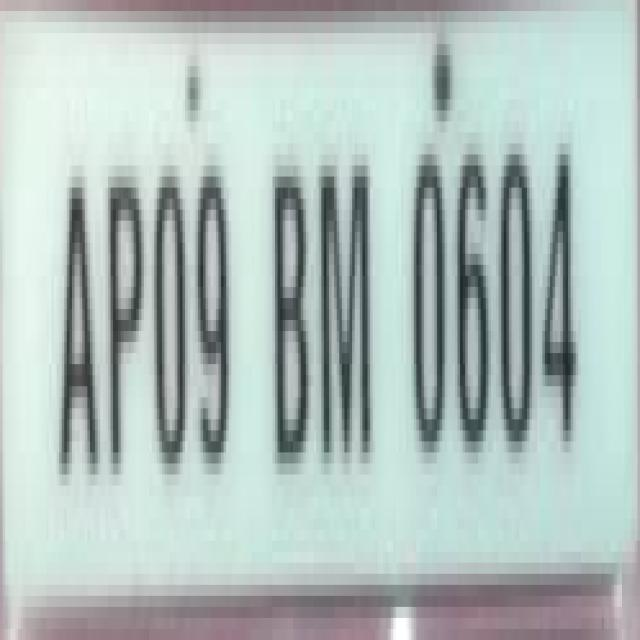license_plate: (3, 0, 604, 629)
